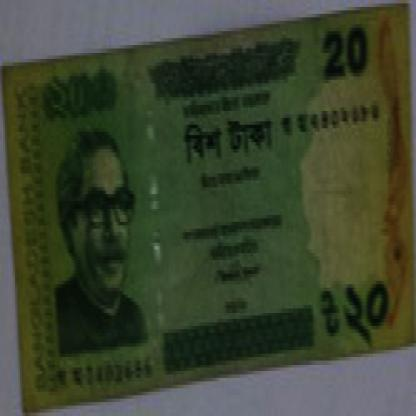Twenty: (320, 271, 396, 344), (183, 118, 283, 159), (43, 73, 120, 125), (318, 21, 374, 80)
